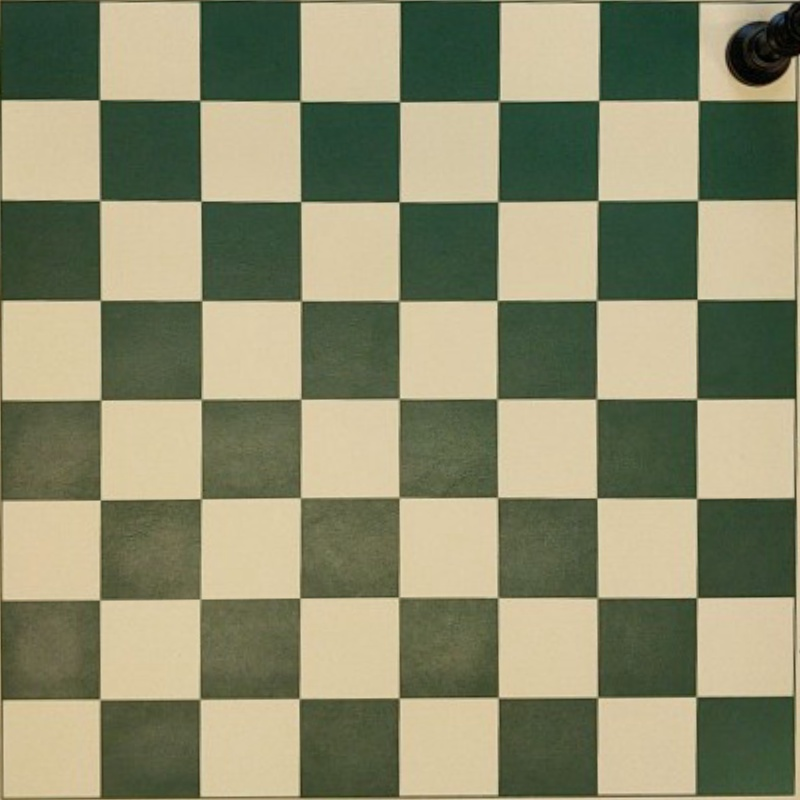black-queen: (725, 2, 800, 86)
